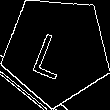L_N: (33, 22, 80, 79)
